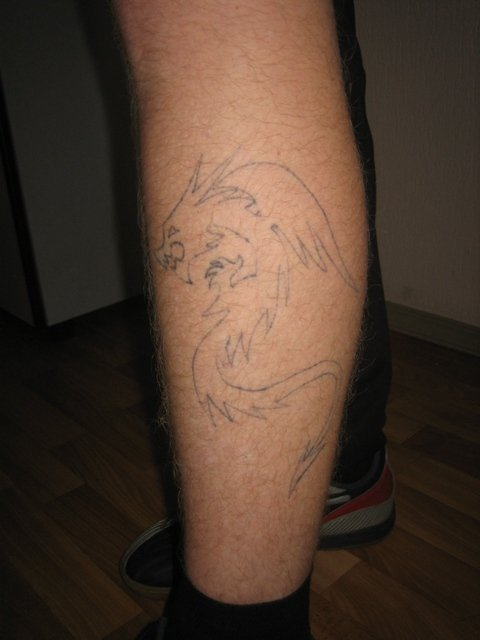tatu6_drakon: (133, 144, 377, 516)
